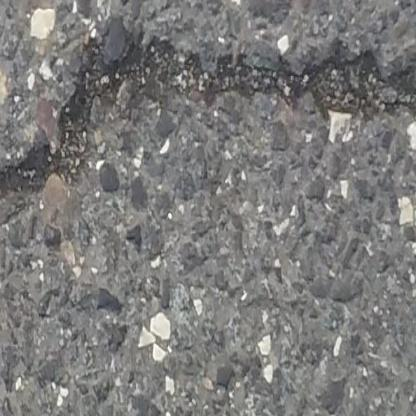Cracks: (0, 15, 416, 216)
